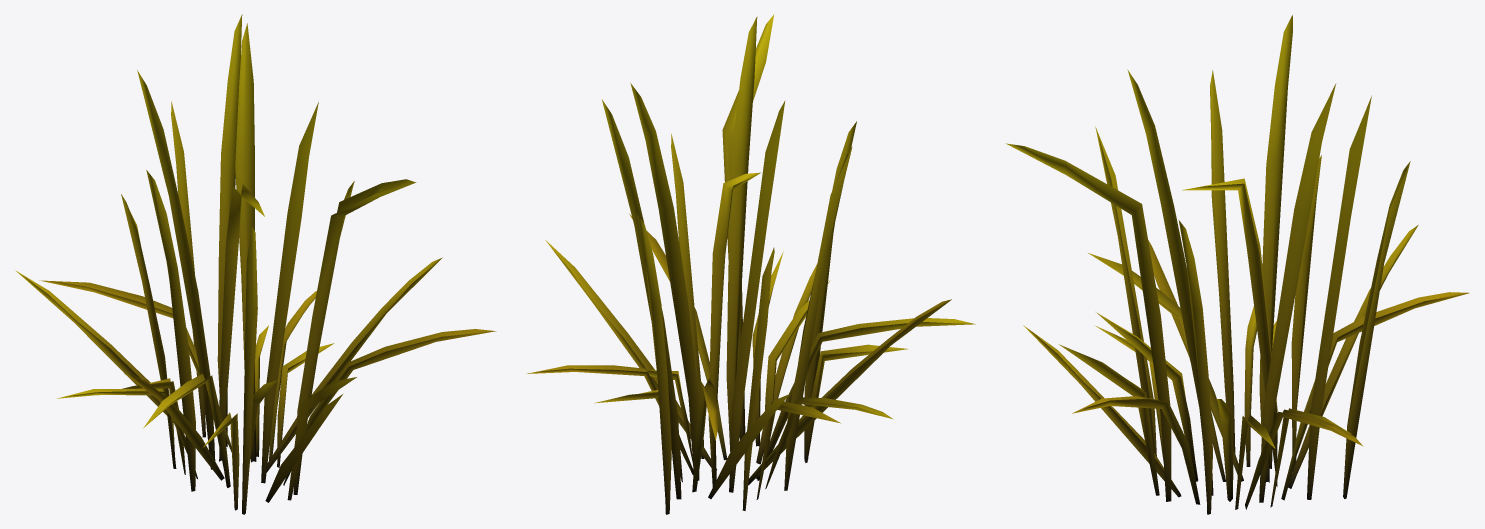
The model's file is Grass_Wispy_Tall.gltf.
3 renders of one model, left to right at view 1: azimuth 30°, elevation 25°; view 2: azimuth 150°, elevation 25°; view 3: azimuth 270°, elevation 25°, orthographic. The views are drawn at different scales.
Parts seen in each view (by area): view 1: Grass_Wispy_Tall; view 2: Grass_Wispy_Tall; view 3: Grass_Wispy_Tall.
Part boxes in pixels (x1=…): Grass_Wispy_Tall: x1=15, y1=14, x2=496, y2=514; Grass_Wispy_Tall: x1=526, y1=14, x2=975, y2=514; Grass_Wispy_Tall: x1=1005, y1=15, x2=1469, y2=514.
Size of the model in its own units: 1.54 by 1.67 by 1.59.
1 material, 1 textured.
